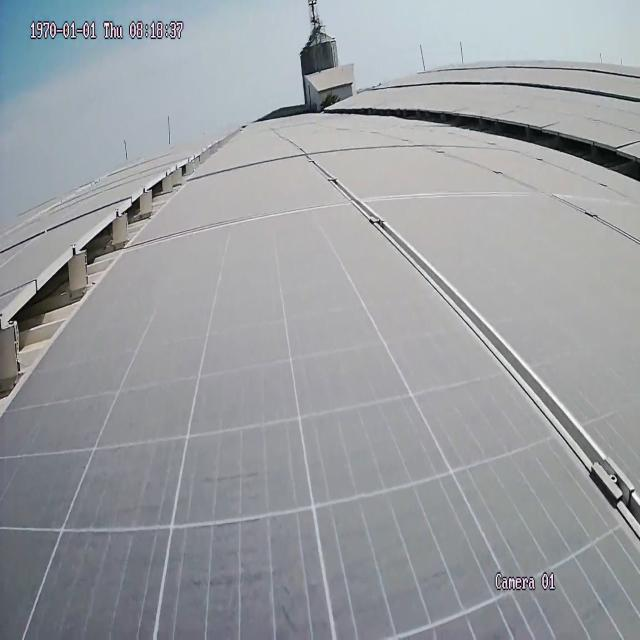interior panel: (298, 158, 640, 528)
outher panel: (2, 135, 224, 423), (372, 105, 639, 188)
